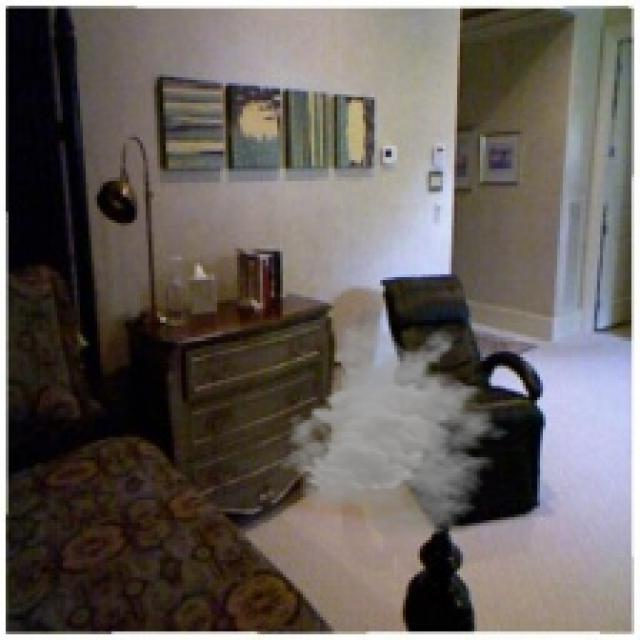smoke: (277, 320, 517, 540)
